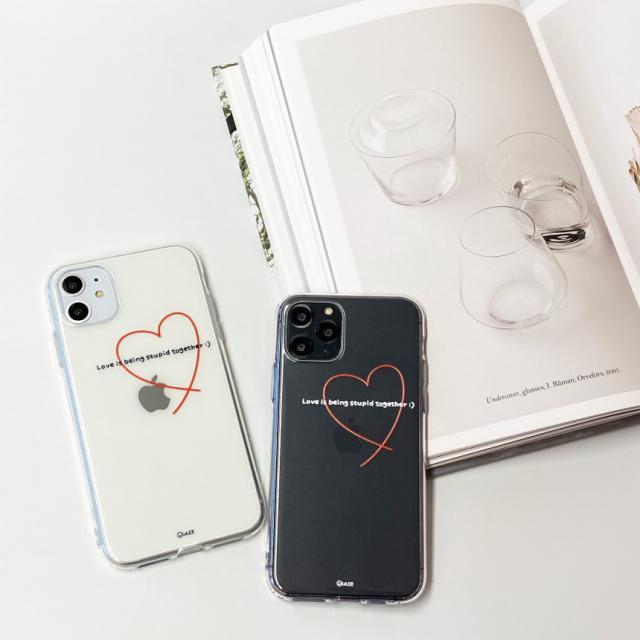phone: (50, 240, 265, 566), (266, 293, 428, 606)
